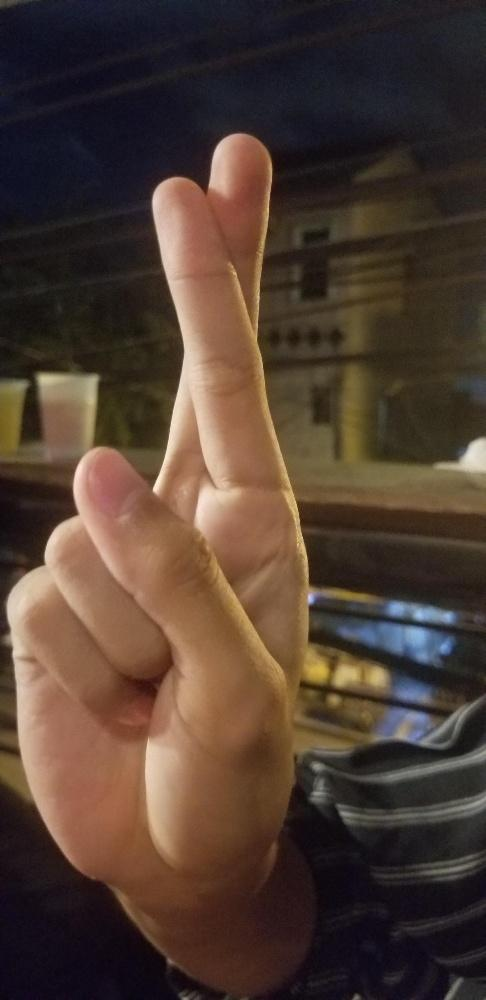r: (0, 129, 314, 885)
